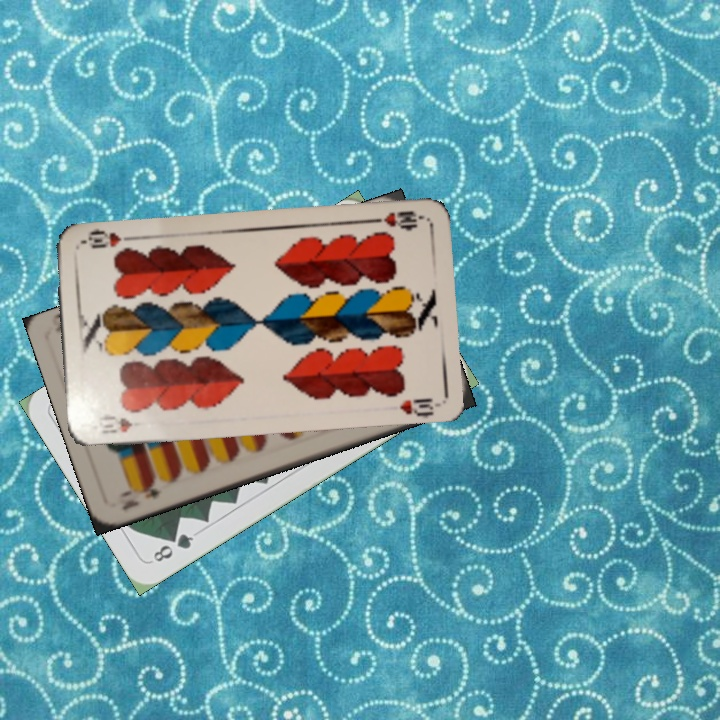E10: (116, 478, 165, 513)
G8: (149, 529, 197, 565)
H10: (366, 207, 425, 232), (94, 412, 135, 436)
